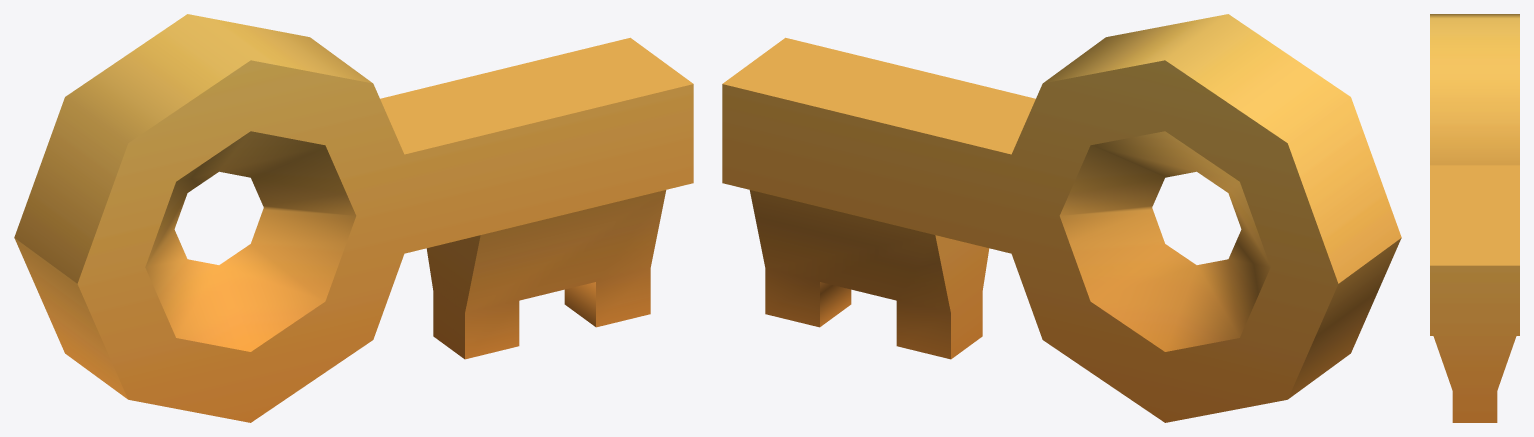
Rendered from Key.glb.
3 views of the same model, side by side, from view 1: azimuth 30°, elevation 25°; view 2: azimuth 150°, elevation 25°; view 3: azimuth 270°, elevation 25° (orthographic). The views are drawn at different scales.
Visible parts, largest first — view 1: key; view 2: key; view 3: key.
Boxes of the visible parts, x1,y1,x2,y2 form: key: [14, 14, 693, 422]; key: [722, 14, 1401, 422]; key: [1430, 14, 1519, 422].
Size of the model in its own units: 0.3817 by 0.2172 by 0.0679.
1 material, 1 textured.
